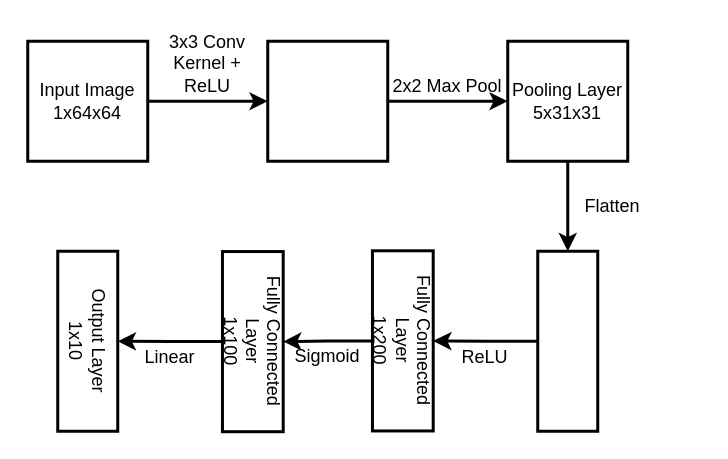
Some shapes in this 728 by 459 pixel diagram are drawn without their labels. The box of each missing label's shape, as (x1, y1, x2, y2) in pixels:
Convolutional Layer 5x62x62: (266, 39, 388, 162)
Flattened Layer 1x4805: (536, 249, 598, 432)
